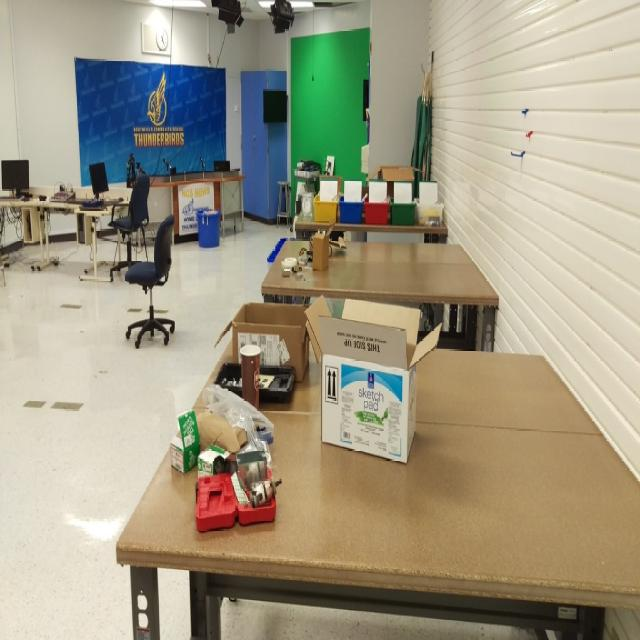chair: (124, 214, 175, 349), (105, 173, 150, 280)
desk: (114, 401, 640, 639), (260, 239, 498, 349)
laptop: (89, 161, 110, 199)
tv: (2, 159, 30, 192)
